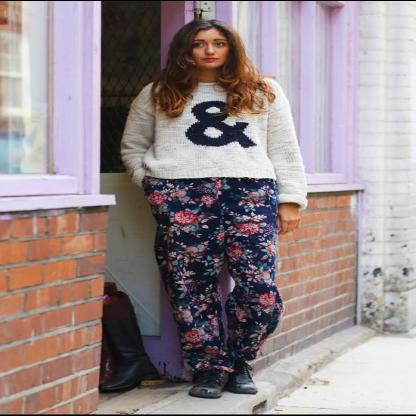pants: (143, 176, 283, 371)
polar: (120, 74, 307, 209)
